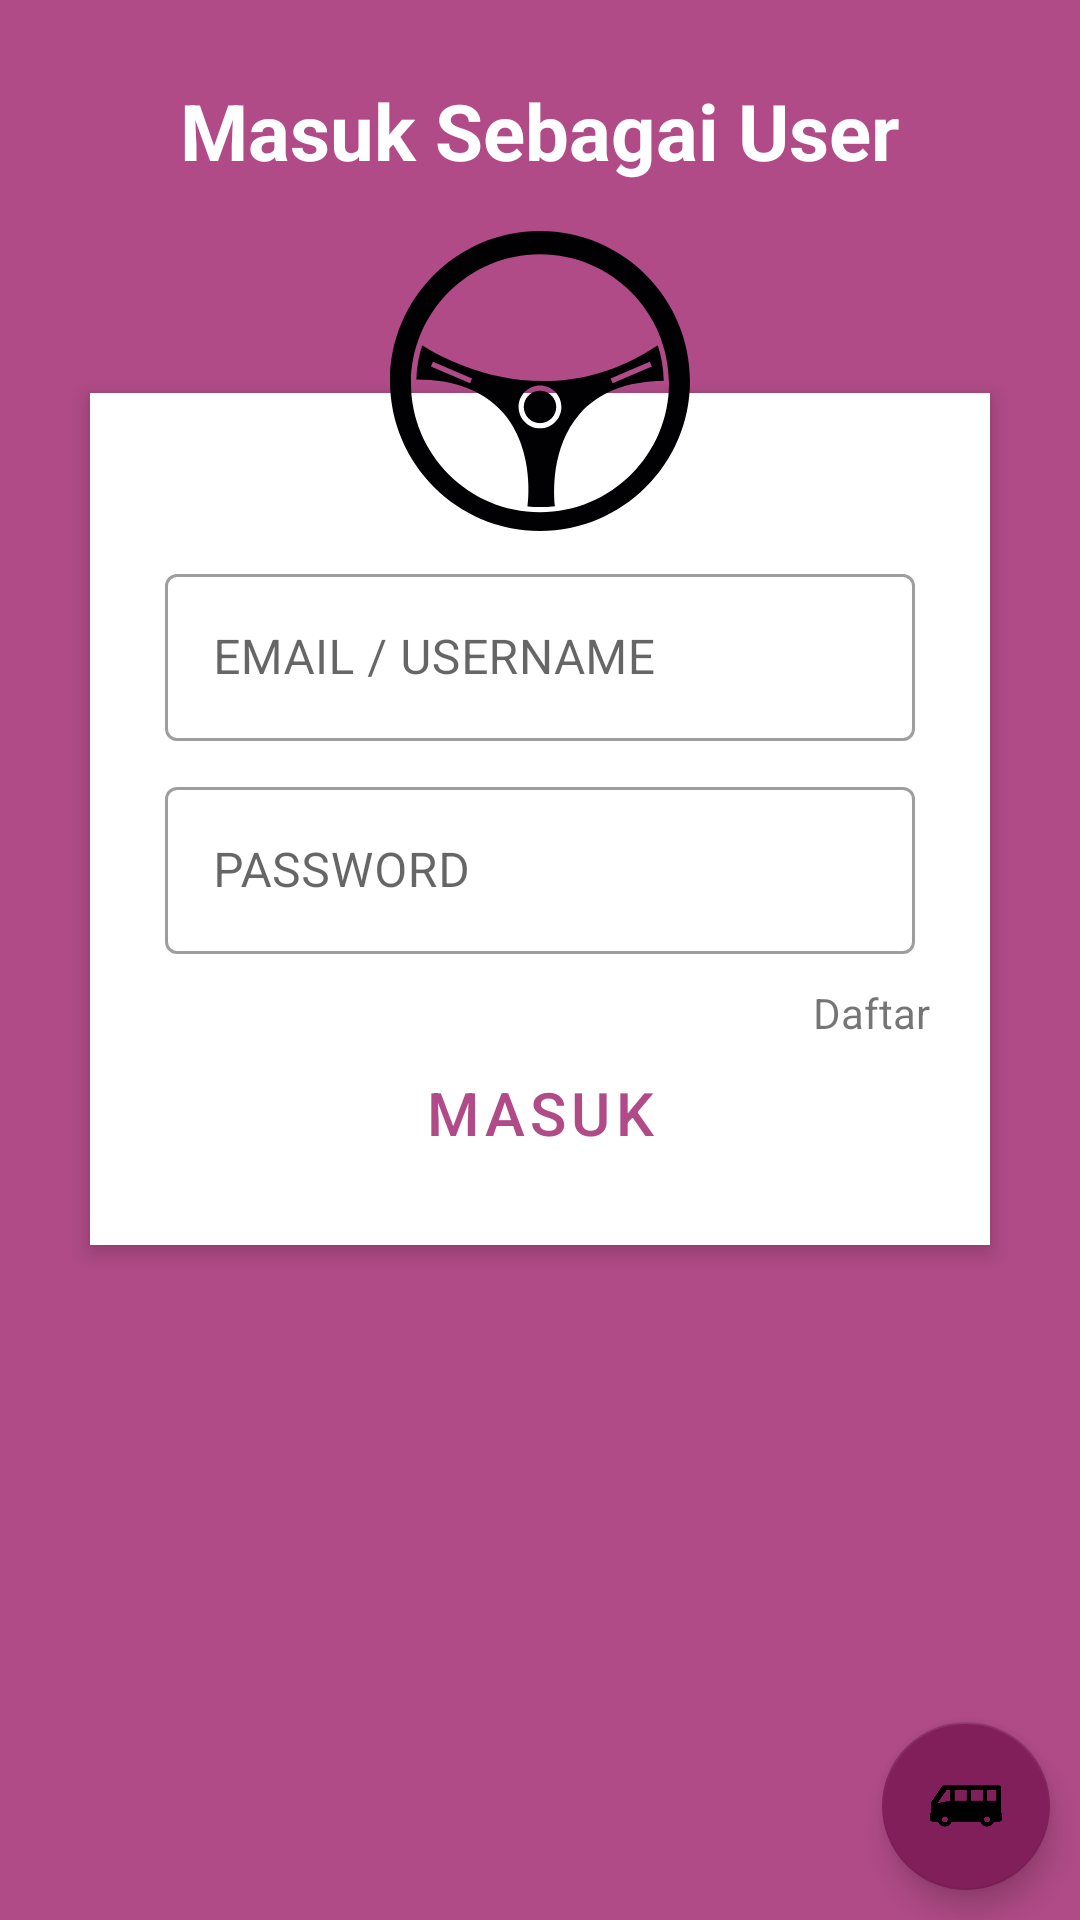

Screen size 1080w x 1920h. Icon name, then its center in pixels as (x,y):
angkot: (966,1806)
